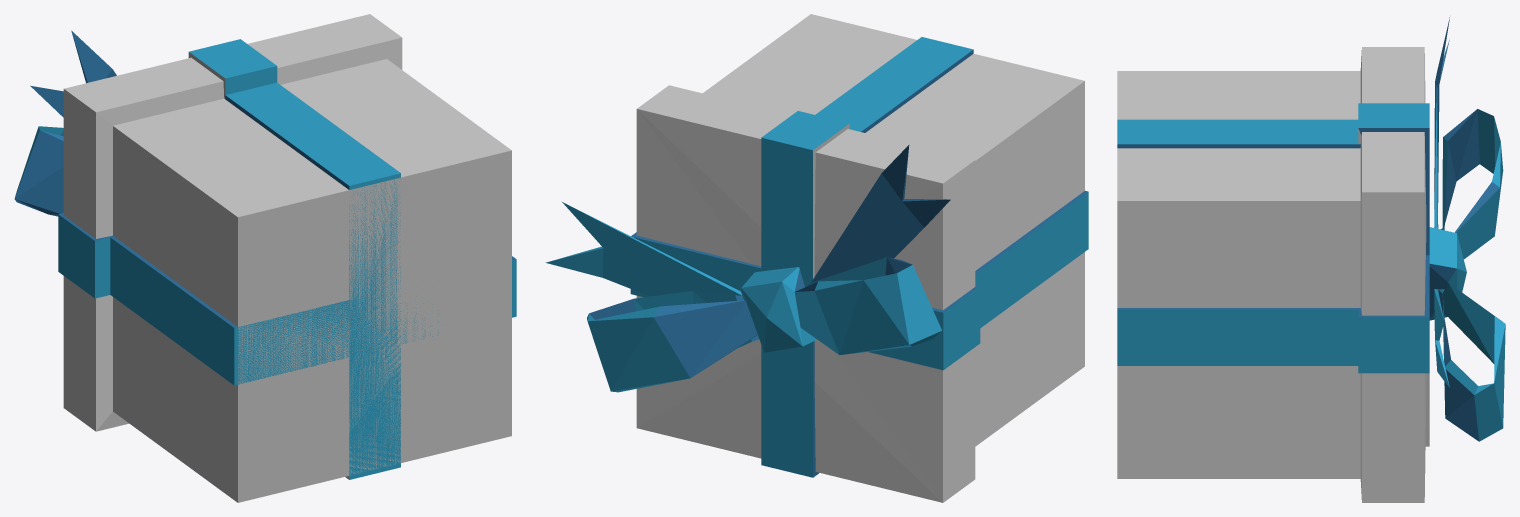
File: gift_box_5.fbx
The picture shows the model from 3 angles, left to right: view 1: azimuth 30°, elevation 25°; view 2: azimuth 150°, elevation 25°; view 3: azimuth 270°, elevation 25°; orthographic projection. The views are drawn at different scales.
Parts seen in each view (by area): view 1: gift_box_3.002; view 2: gift_box_3.002; view 3: gift_box_3.002.
Part boxes in pixels (bbox=[...]): gift_box_3.002: bbox=[14, 14, 516, 502]; gift_box_3.002: bbox=[545, 14, 1088, 502]; gift_box_3.002: bbox=[1117, 17, 1505, 502].
Size of the model in its own units: 325 by 279 by 274.
